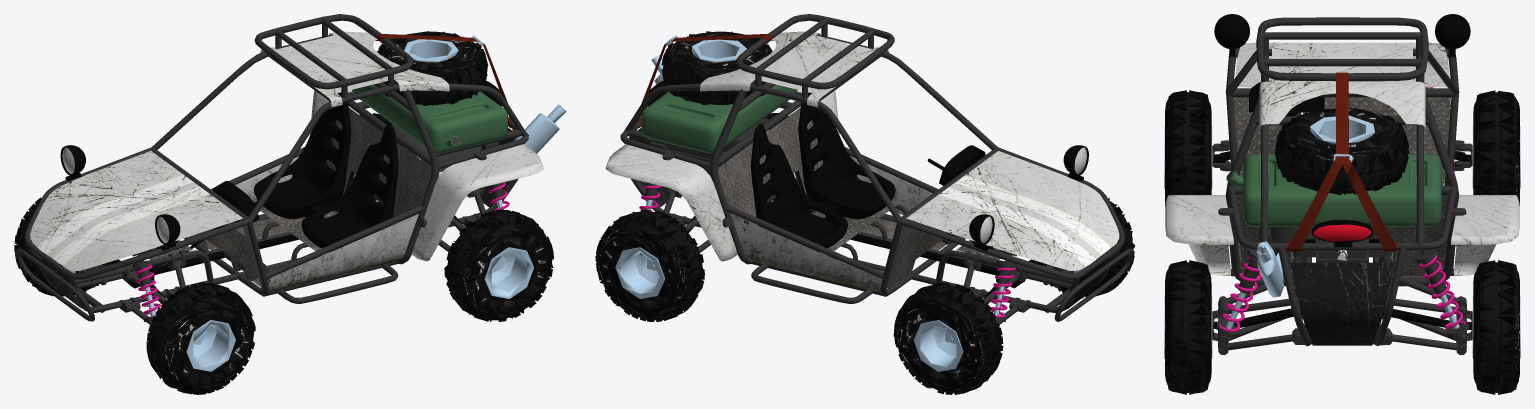
The model's file is car_buggy.glb.
The picture shows the model from 3 angles, left to right: view 1: azimuth 30°, elevation 25°; view 2: azimuth 150°, elevation 25°; view 3: azimuth 270°, elevation 25°; orthographic projection. The views are drawn at different scales.
Visible parts, largest first — view 1: car_buggy; view 2: car_buggy; view 3: car_buggy.
Part boxes in pixels (bbox=[...]): car_buggy: bbox=[14, 14, 566, 394]; car_buggy: bbox=[595, 14, 1135, 394]; car_buggy: bbox=[1164, 14, 1520, 394].
Size of the model in its own units: 3.99 by 1.93 by 2.17.
Materials: 10 (2 with a texture image).
